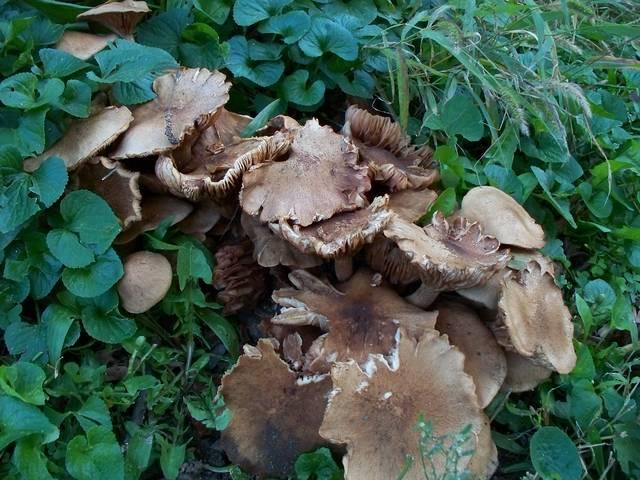edible_mushroom: (192, 110, 578, 478), (84, 67, 245, 214)
